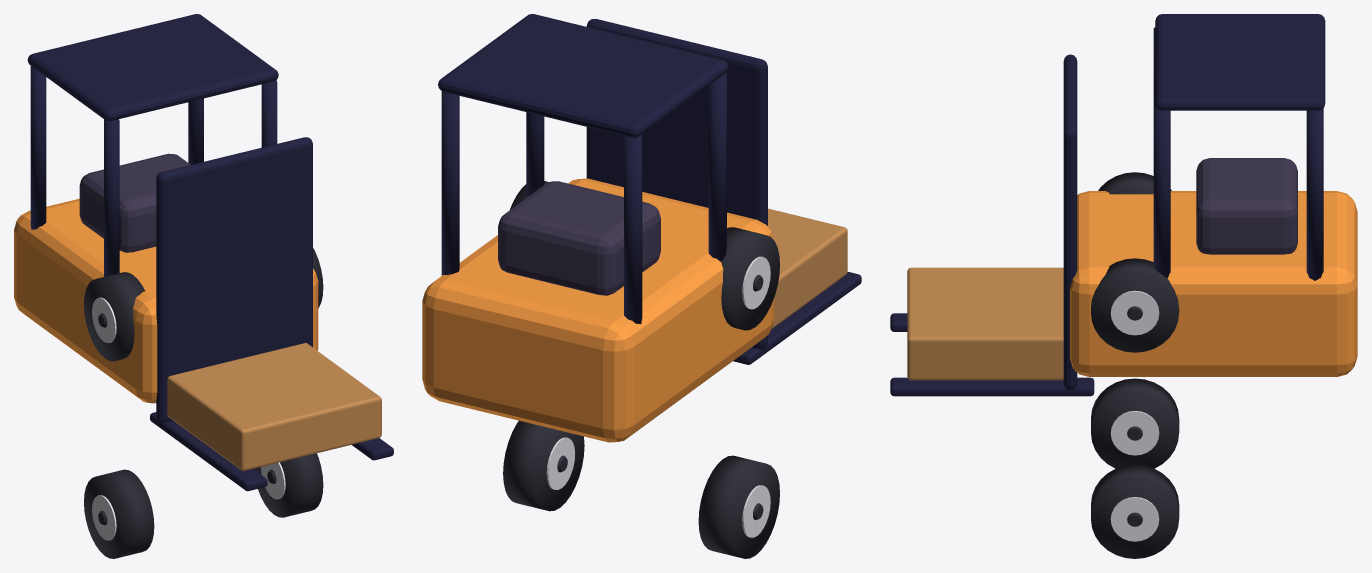
File: Car_Forklift.fbx
3 renders of one model, left to right at view 1: azimuth 30°, elevation 25°; view 2: azimuth 150°, elevation 25°; view 3: azimuth 270°, elevation 25°, orthographic. The views are drawn at different scales.
Parts seen in each view (by area): view 1: Car_Forklift, Wheel_FL, Wheel_RL, Wheel_FR; view 2: Car_Forklift, Wheel_FL, Wheel_FR, Wheel_RL; view 3: Car_Forklift, Wheel_FR, Wheel_FL, Wheel_RR, Wheel_RL.
Part boxes in pixels (bbox=[...]): Car_Forklift: bbox=[14, 14, 393, 491]; Wheel_FL: bbox=[84, 469, 154, 558]; Wheel_RL: bbox=[84, 272, 144, 361]; Wheel_FR: bbox=[253, 453, 323, 517]; Car_Forklift: bbox=[422, 14, 861, 442]; Wheel_FL: bbox=[698, 455, 779, 558]; Wheel_FR: bbox=[503, 420, 584, 511]; Wheel_RL: bbox=[721, 227, 779, 330]; Car_Forklift: bbox=[890, 14, 1357, 396]; Wheel_FR: bbox=[1091, 464, 1179, 558]; Wheel_FL: bbox=[1091, 378, 1179, 468]; Wheel_RR: bbox=[1091, 258, 1179, 352]; Wheel_RL: bbox=[1098, 172, 1171, 194].
Bounding box in the file's own units: 0.726 × 1.47 × 1.38.
